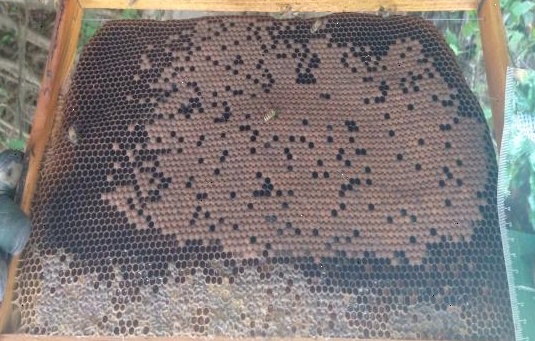cria: (98, 15, 495, 265)
